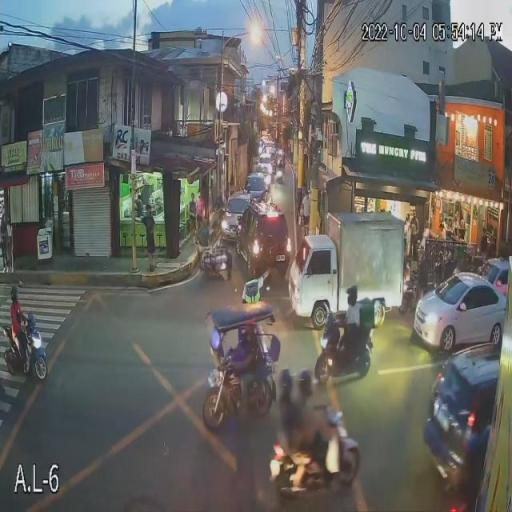helmet: (277, 367, 296, 394), (297, 368, 314, 394), (345, 285, 359, 308), (9, 287, 20, 303)
motorcycle: (265, 432, 362, 496), (312, 332, 374, 382), (0, 325, 49, 380)
rider: (296, 397, 344, 480), (275, 397, 309, 493), (9, 303, 30, 364), (337, 307, 361, 351)
